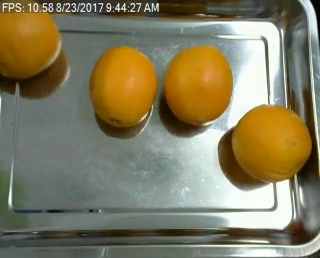Orange: (231, 104, 312, 184), (87, 44, 156, 129), (164, 45, 233, 125), (0, 1, 61, 80)
